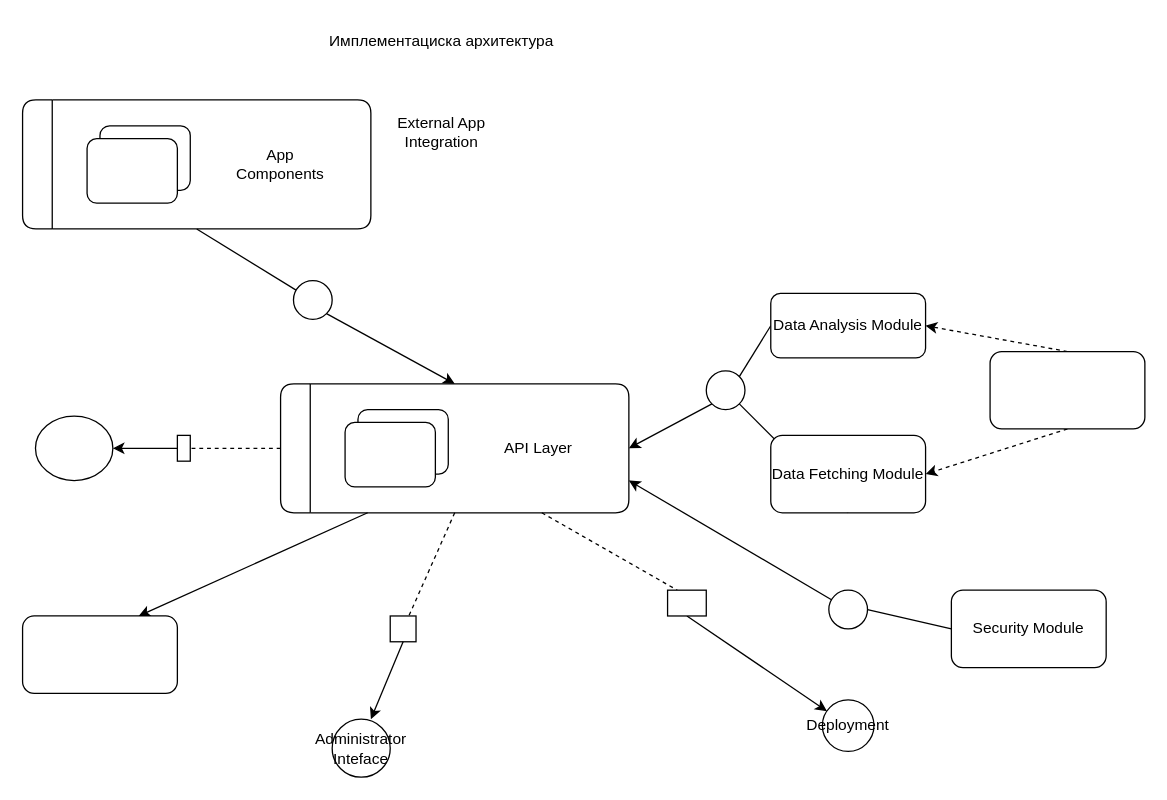
This 1167x800 diagram has some shape labels left out. Each missing label, with the centre of its shape:
Database: the point at 1067,389
Frontend: the point at 73,448
Monitoring & Logging: the point at 99,654
